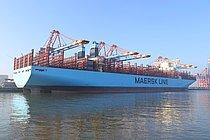Ship: (12, 27, 201, 94)
